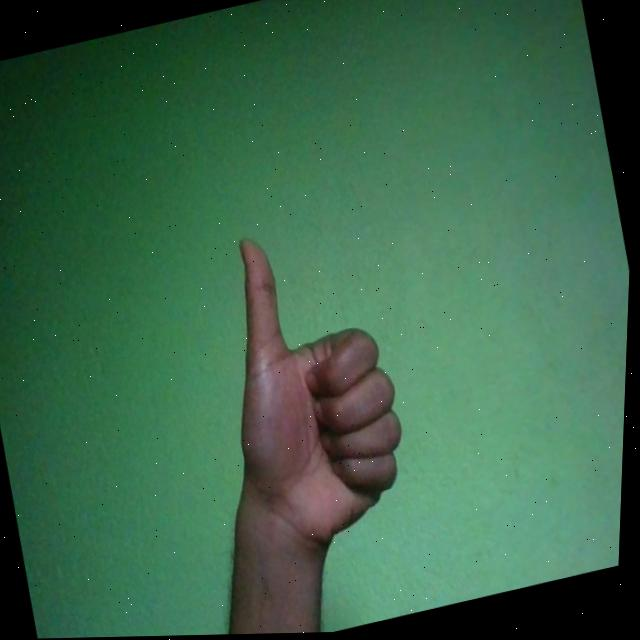Good Job: (198, 212, 432, 566)
